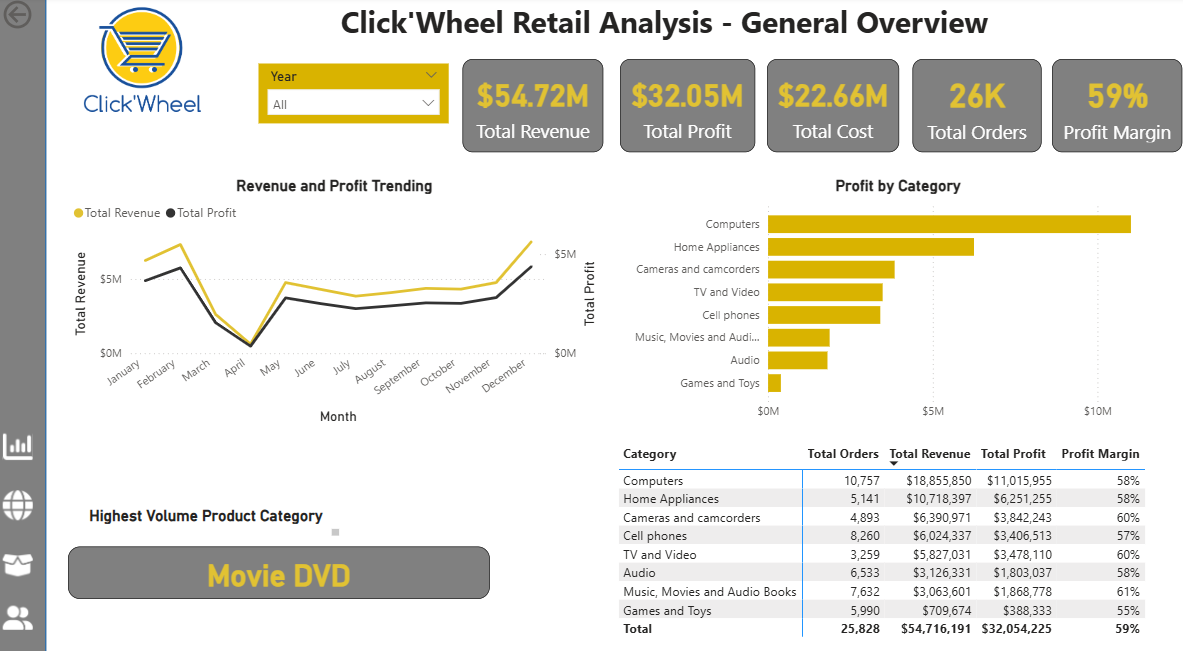

This screenshot's page, from the dashboard's own definition file:
{"tool":"powerbi","page":{"name":"Exec Dashboard","canvas":[1280,720],"ordinal":0},"visuals":[{"type":"card","fields":{"Values":["Measures (2).Profit"]},"box":[529.5,68,187.8,100.4],"z":0},{"type":"actionButton","box":[0,529.4,45.3,40.5],"z":1000,"group":"g1"},{"type":"card","fields":{"Values":["Measures (2).Total Revenue"]},"box":[322.2,68,184.6,100.4],"z":1000},{"type":"actionButton","box":[0,466.3,45.3,40.5],"z":2000,"group":"g1"},{"type":"card","fields":{"Values":["Measures (2).Total Cost"]},"box":[733.5,68,174.9,100.4],"z":2000},{"type":"card","fields":{"Values":["Measures (2).Profit Margin %"]},"box":[1112.4,68,168.4,100.4],"z":3000},{"type":"actionButton","box":[0,594.2,45.3,40.5],"z":3000,"group":"g1"},{"type":"shape","box":[0,0,51,720],"z":4000},{"type":"actionButton","box":[0,650.9,74.5,40.5],"z":4000,"group":"g1"},{"type":"lineChart","title":" Revenue and Profit Trending","fields":{"Y":["Measures (2).Total Revenue"],"Y2":["Measures (2).Total Profit"],"Category":["Sales.Order Date.Variation.Date Hierarchy.Month"]},"box":[76.1,296.3,574.8,297.9],"z":5000},{"type":"clusteredBarChart","title":" Profit by Category","fields":{"Category":["Products.Category"],"Y":["Measures (2).Total Profit"]},"box":[652.5,183,613.7,297.9],"z":6000},{"type":"pivotTable","fields":{"Rows":["Products.Category"],"Values":["Measures (2).Total Orders","Measures (2).Total Revenue","Measures (2).Total Profit","Measures (2).Profit Margin %"]},"box":[652.5,487.4,602.4,233.2],"z":7000},{"type":"image","box":[64.8,19.4,213.7,163.5],"z":8000},{"type":"card","fields":{"Values":["Min(Products.Subcategory)"]},"box":[76.1,644.5,455,53.4],"z":9000},{"type":"actionButton","box":[0,0,100,40],"z":10000},{"type":"textbox","title":"Highest Volume Product Category","box":[127.9,613.7,299.6,30.8],"z":11000},{"type":"group","id":"g1","title":"Navigation Buttons","box":[0,466.3,74.5,225.1],"z":12000},{"type":"card","fields":{"Values":["Measures (2).Total Orders"]},"box":[924.6,68,173.3,100.4],"z":13000},{"type":"slicer","fields":{"Values":["Sales.Order Date.Variation.Date Hierarchy.Year"]},"box":[85.8,220.2,385.4,64.8],"z":14000},{"type":"textbox","box":[246.1,0,944,56.7],"z":15000}]}

Visuals, with their boxes in screenshot pixels (x1, y1, x2, y2), scaled from the page's 1280x720 canvas onto the 1183x651 screenshot:
card - Measures (2).Profit: [x1=489, y1=61, x2=663, y2=152]
actionButton: [x1=0, y1=479, x2=42, y2=515]
card - Measures (2).Total Revenue: [x1=298, y1=61, x2=468, y2=152]
actionButton: [x1=0, y1=422, x2=42, y2=458]
card - Measures (2).Total Cost: [x1=678, y1=61, x2=840, y2=152]
card - Measures (2).Profit Margin %: [x1=1028, y1=61, x2=1182, y2=152]
actionButton: [x1=0, y1=537, x2=42, y2=574]
shape: [x1=0, y1=0, x2=47, y2=650]
actionButton: [x1=0, y1=589, x2=69, y2=625]
" Revenue and Profit Trending" lineChart: [x1=70, y1=268, x2=602, y2=537]
" Profit by Category" clusteredBarChart: [x1=603, y1=165, x2=1170, y2=435]
pivotTable - Products.Category x Measures (2).Total Orders: [x1=603, y1=441, x2=1160, y2=650]
image: [x1=60, y1=18, x2=257, y2=165]
card - Min(Products.Subcategory): [x1=70, y1=583, x2=491, y2=631]
actionButton: [x1=0, y1=0, x2=92, y2=36]
"Highest Volume Product Category" textbox: [x1=118, y1=555, x2=395, y2=583]
"Navigation Buttons" group: [x1=0, y1=422, x2=69, y2=625]
card - Measures (2).Total Orders: [x1=855, y1=61, x2=1015, y2=152]
slicer - Sales.Order Date.Variation.Date Hierarchy.Year: [x1=79, y1=199, x2=435, y2=258]
textbox: [x1=227, y1=0, x2=1100, y2=51]
